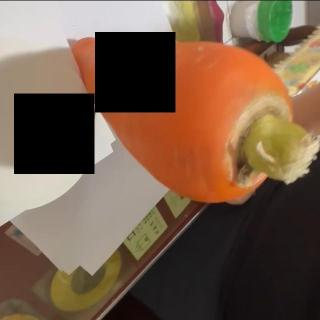carrot: (68, 35, 317, 204)
